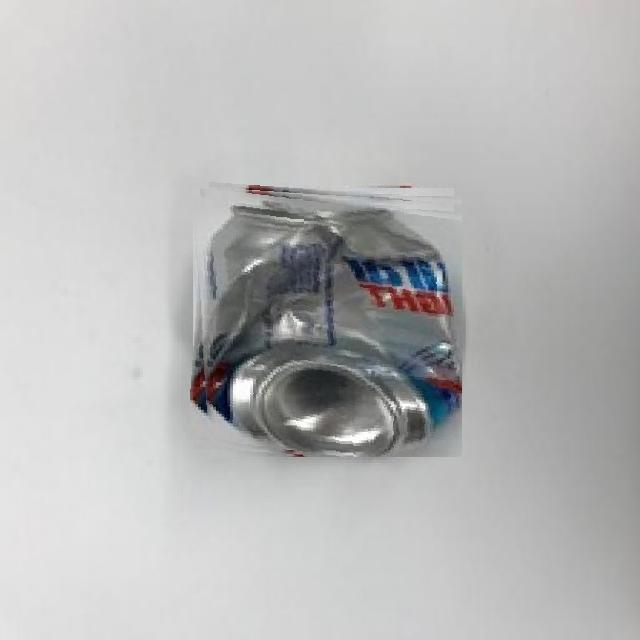recyclable: (192, 187, 462, 457)
